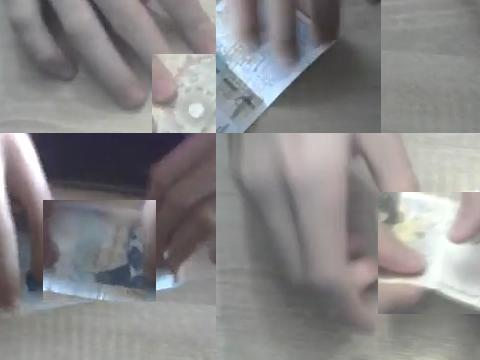10leva: (378, 192, 480, 311), (382, 192, 480, 313), (155, 54, 216, 133)
20leva: (216, 0, 339, 133), (43, 200, 156, 302)
